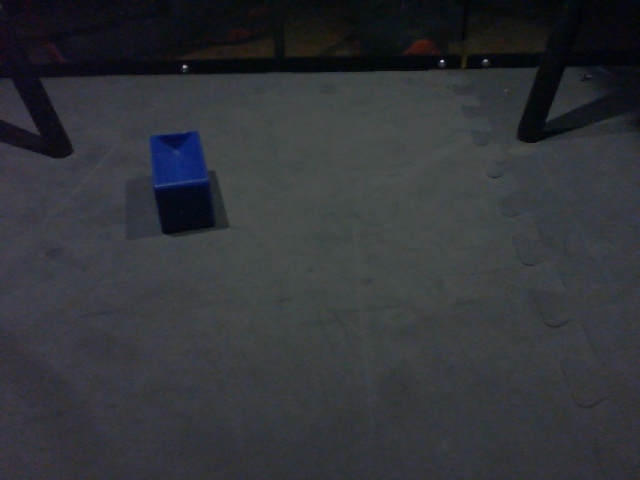BlueSample: (146, 127, 217, 235)
